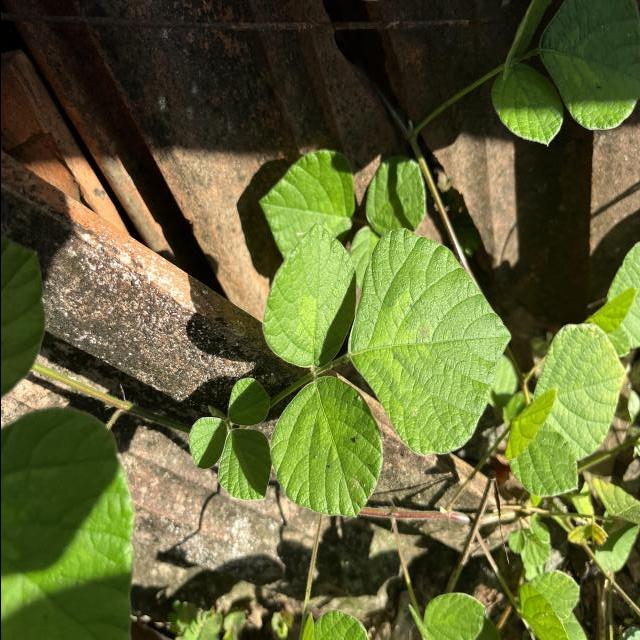Pseudarthria viscida: (257, 220, 513, 520), (185, 376, 272, 504)
